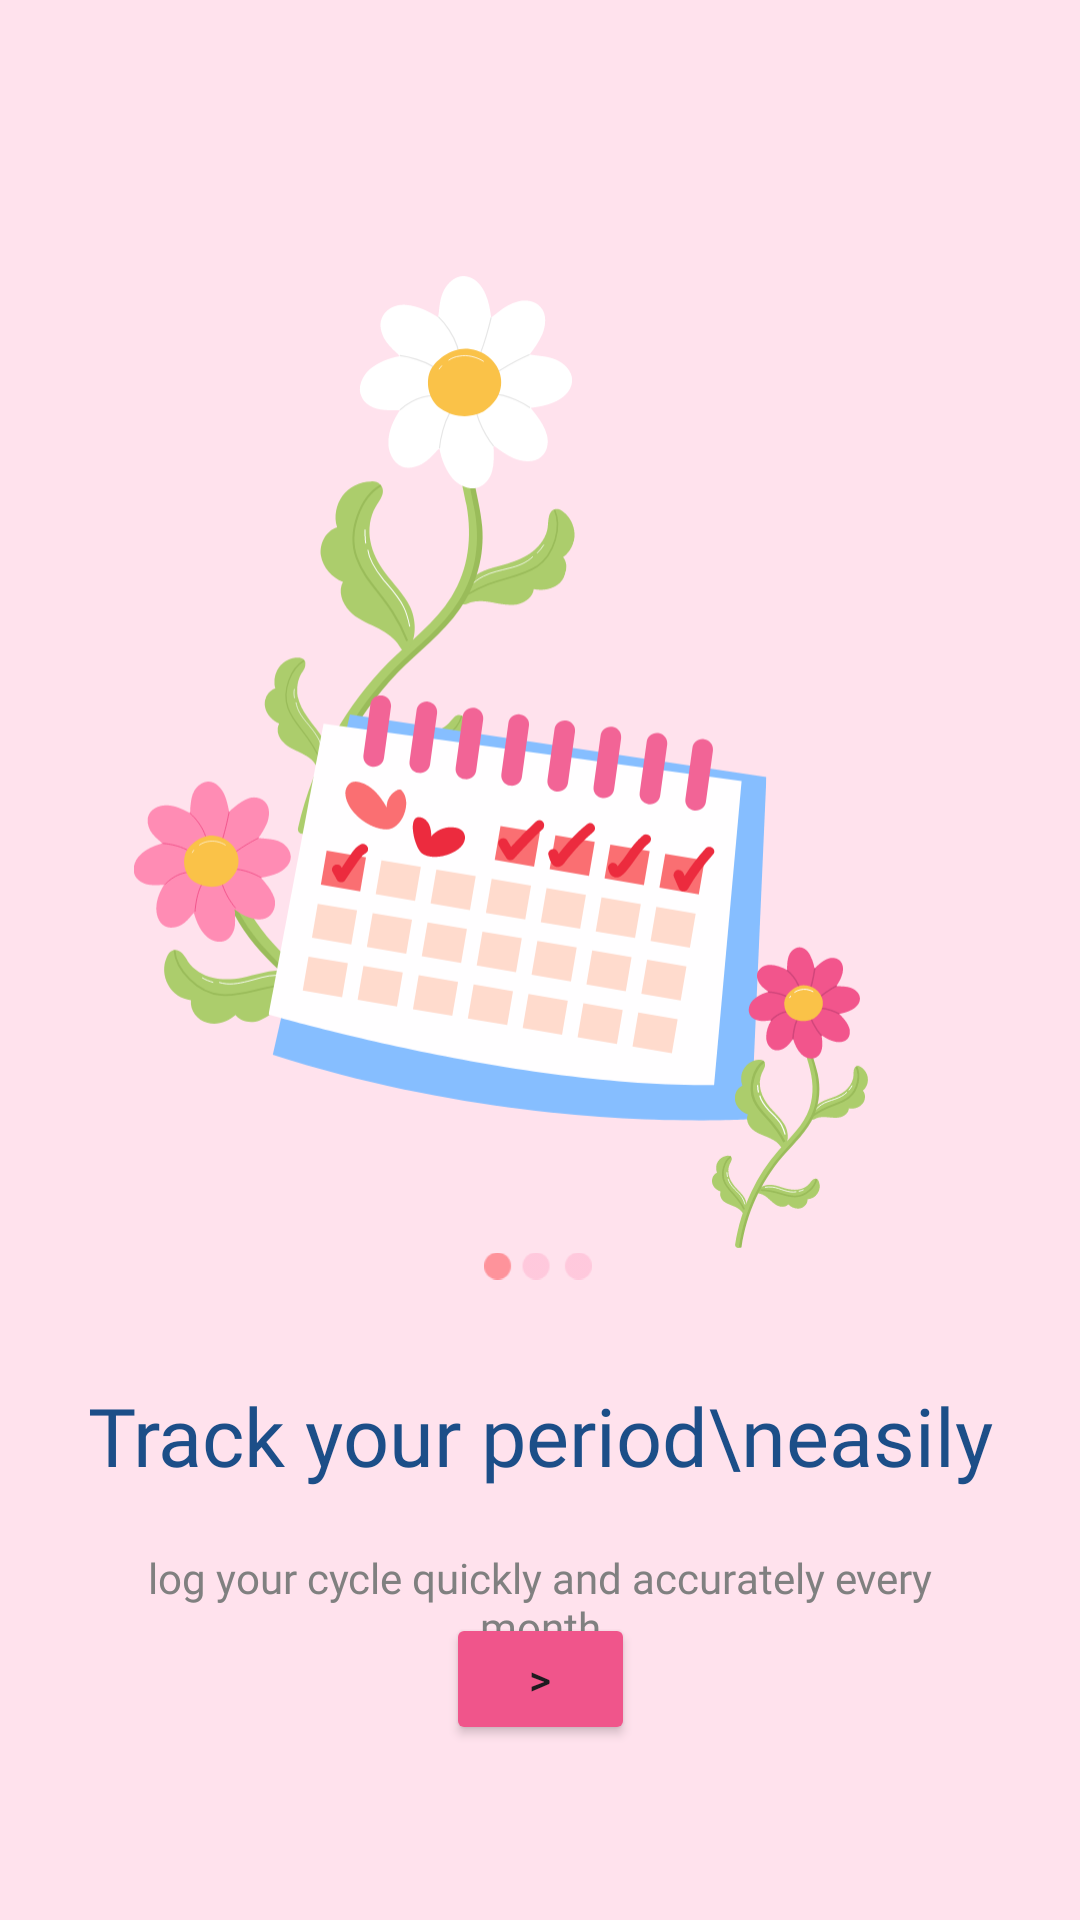

Icon click points for this 1080×1920 phone screenshot, format (x,y):
dot: (538,1266)
